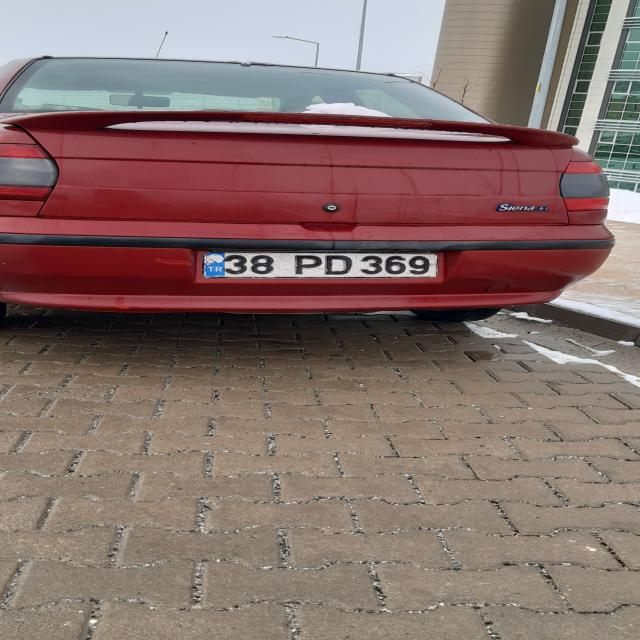license_plate: (203, 252, 438, 278)
